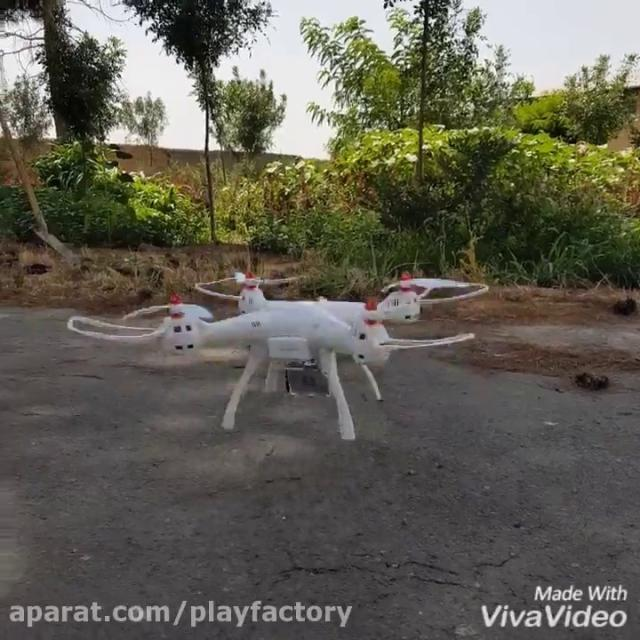drone: (66, 268, 492, 441)
